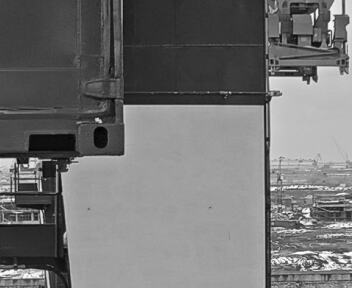twist_lock_1: (45, 154, 81, 180)
